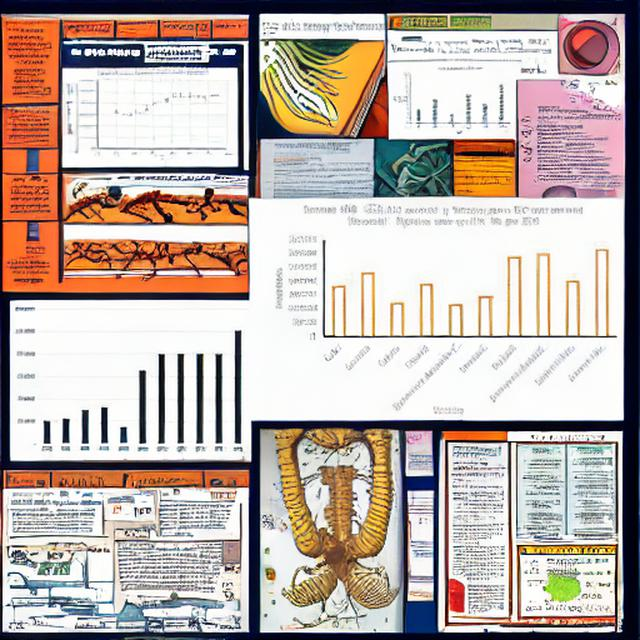Graph: (265, 201, 621, 416), (14, 302, 250, 455), (73, 70, 234, 165), (389, 64, 513, 136)
